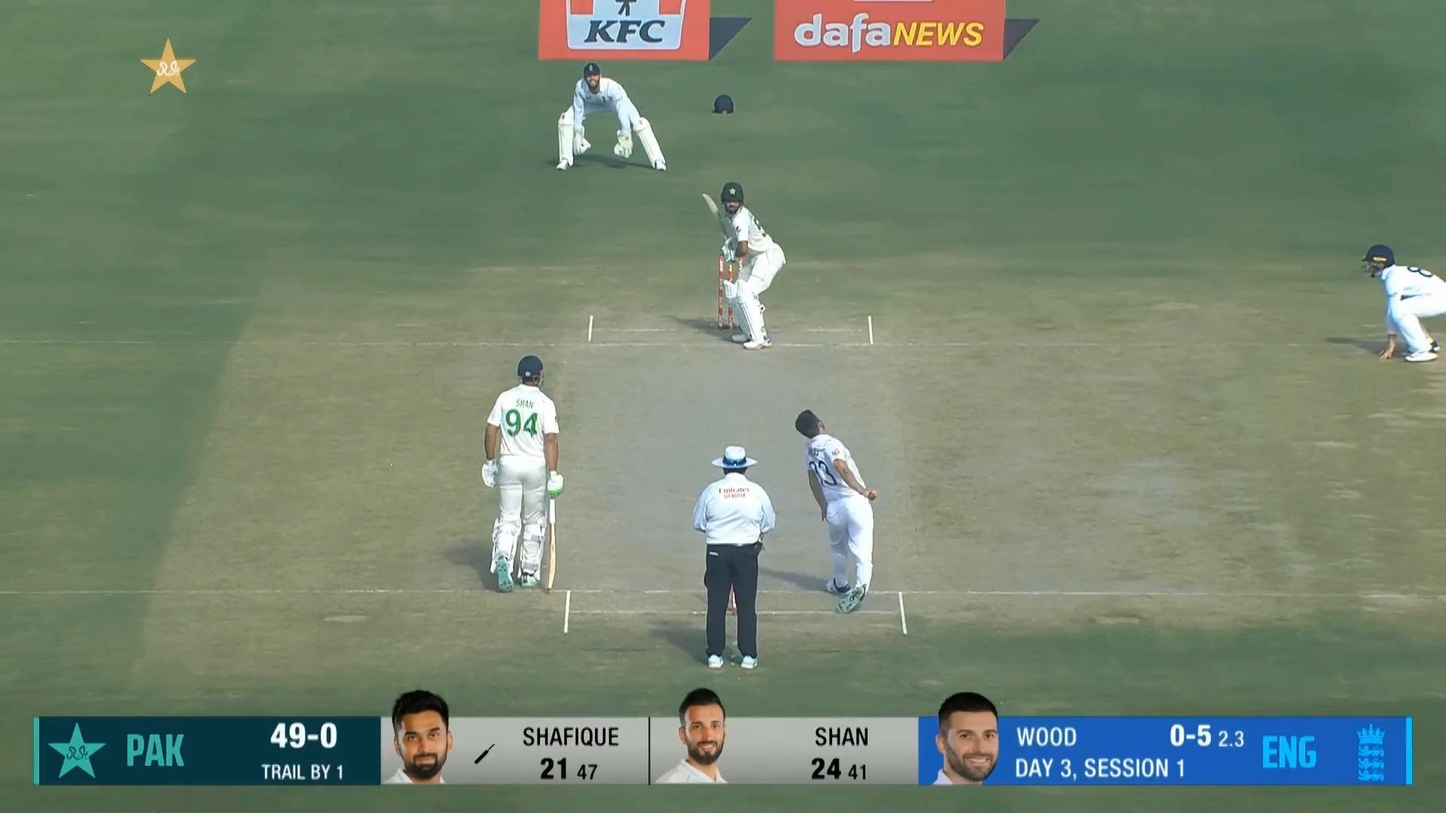BM 1: (703, 182, 787, 349)
BO: (794, 408, 879, 615)
